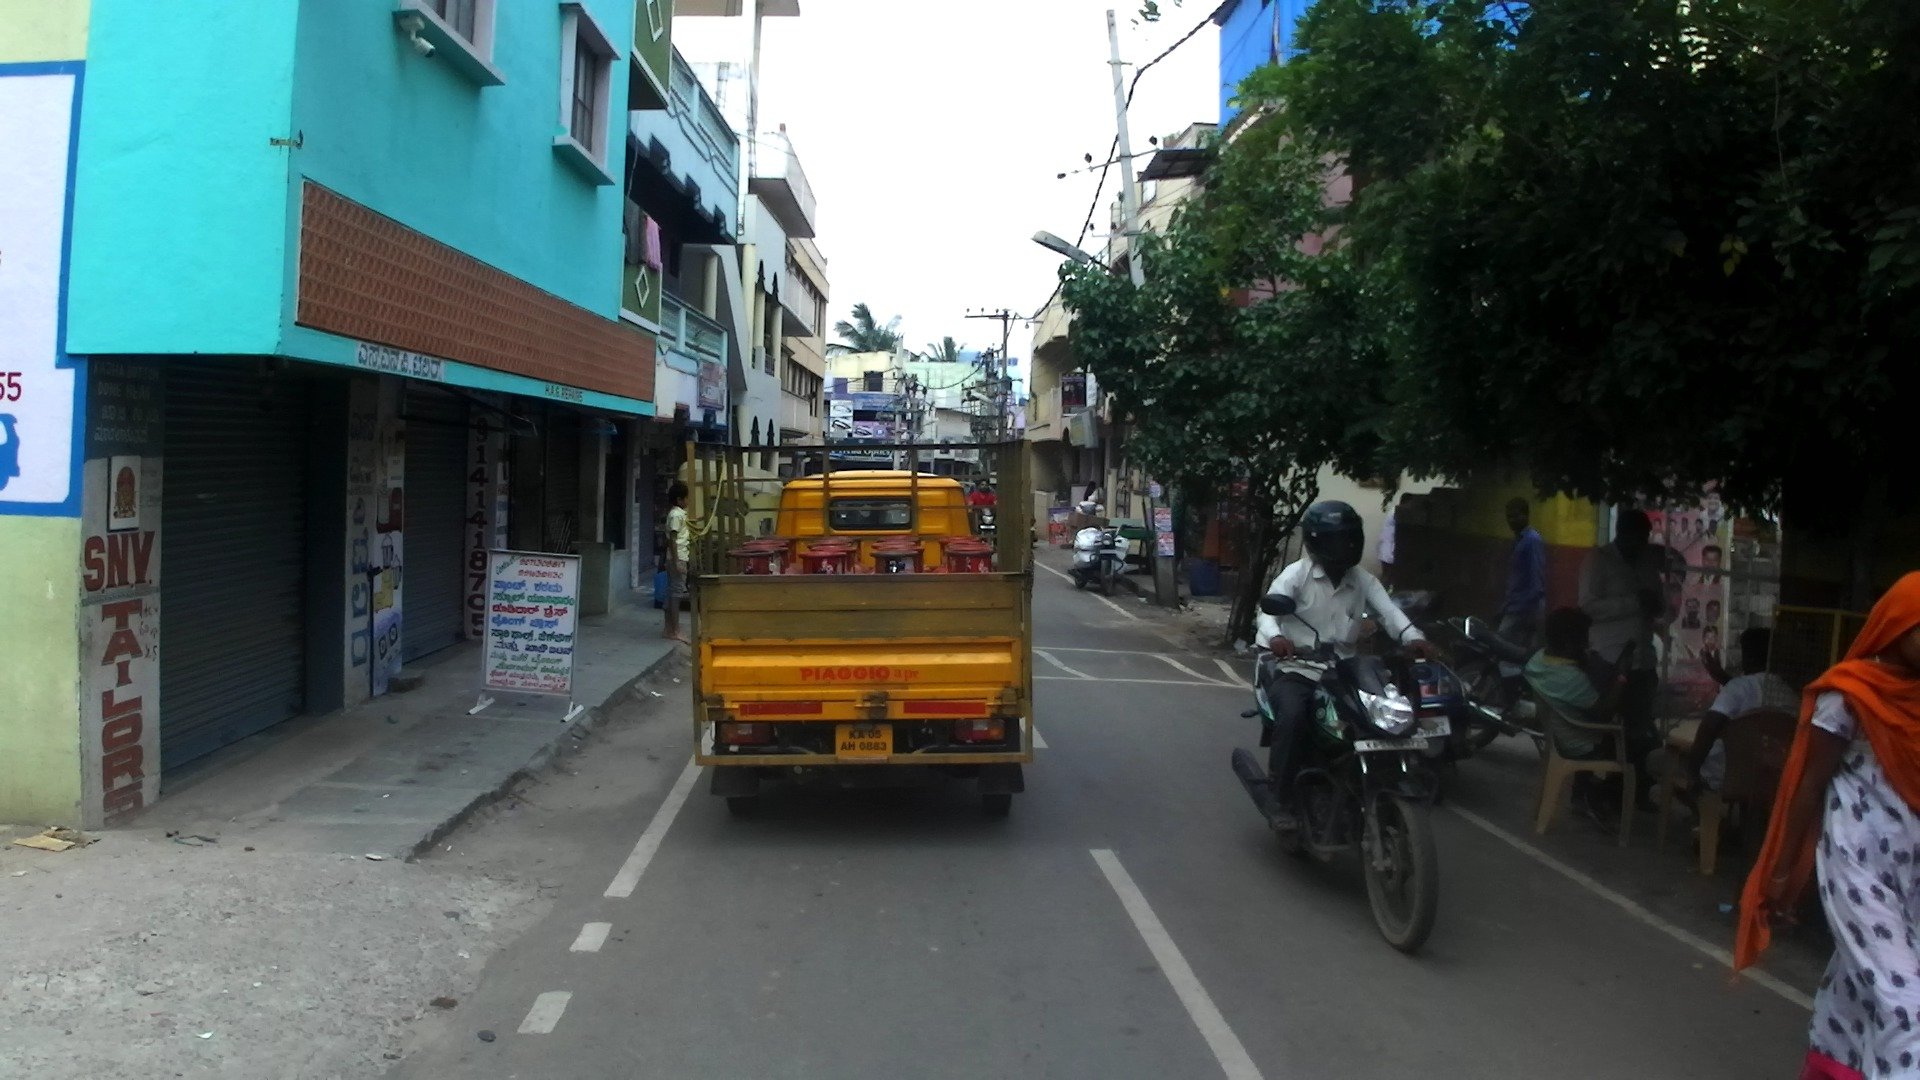autorickshaw: (695, 438, 1053, 823), (655, 458, 783, 605)
motorcycle: (1230, 593, 1516, 952), (1429, 616, 1651, 759), (1373, 591, 1478, 806), (1067, 503, 1125, 598), (963, 506, 1001, 547), (1030, 511, 1039, 552)
person: (1719, 570, 1920, 1080), (1646, 626, 1794, 837), (1517, 607, 1637, 838), (1576, 507, 1664, 815), (1497, 495, 1547, 659), (659, 480, 691, 642), (1377, 487, 1416, 598)
rider: (1256, 498, 1443, 834), (970, 479, 997, 524), (968, 472, 990, 509)
vehicle fallback: (1107, 524, 1151, 574)
